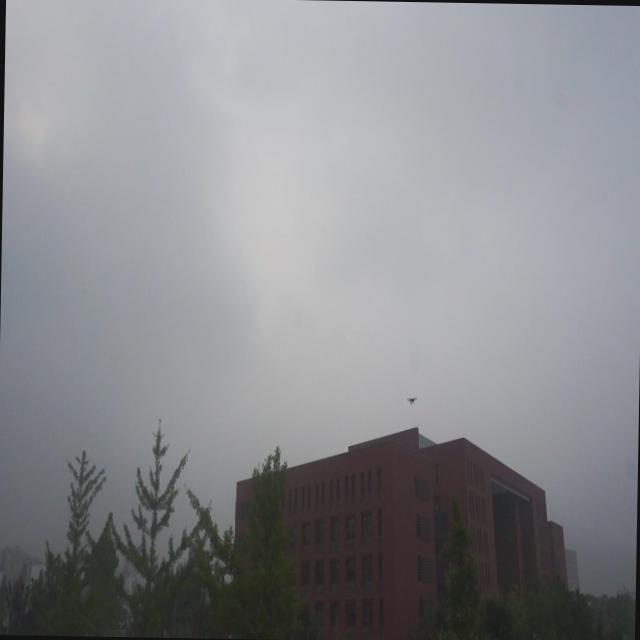drone: (406, 392, 418, 408)
